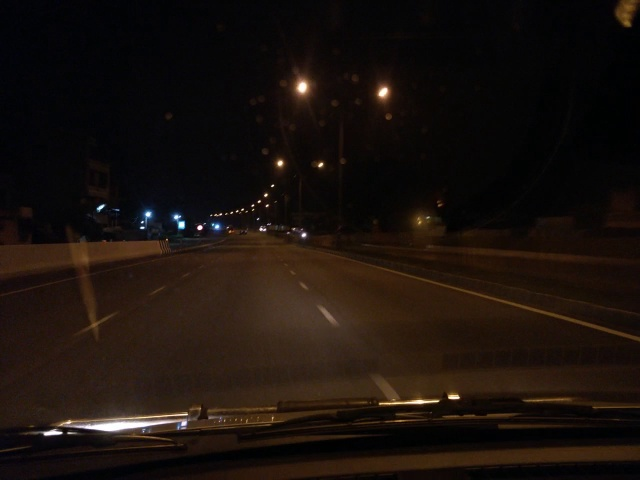truck: (240, 228, 251, 237), (259, 224, 268, 233)
